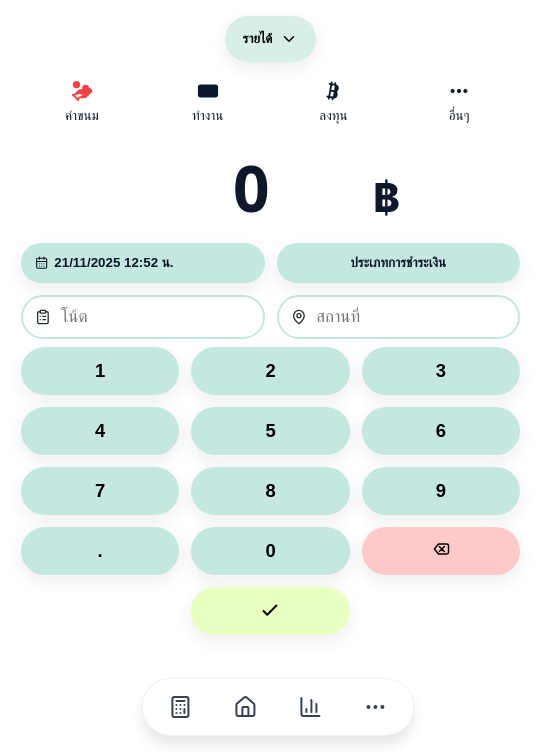
Income Component › should build number sequence using keypad
Click the button "1" at (100, 371), box [21,347,179,395]
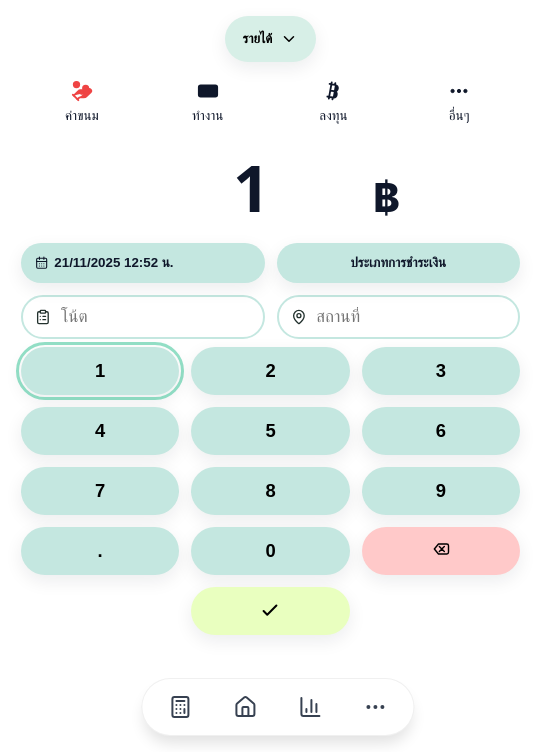
Click the button "2" at (270, 371), box [191,347,350,395]
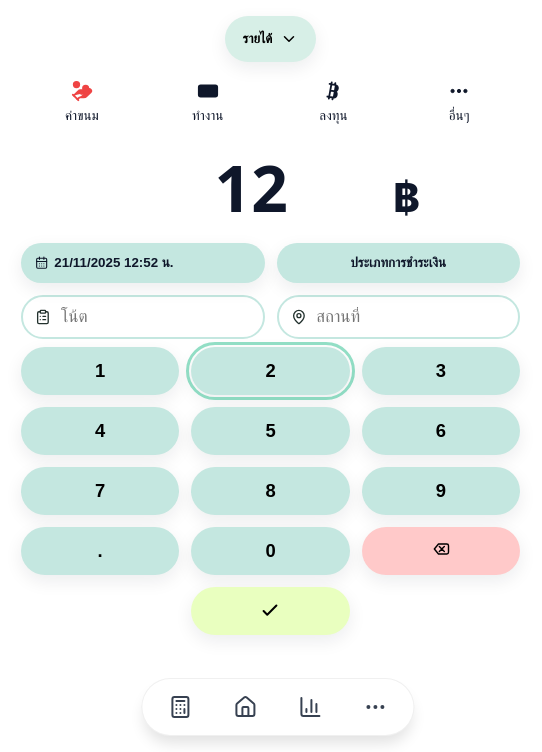
Click the button "3" at (441, 371), box [362,347,520,395]
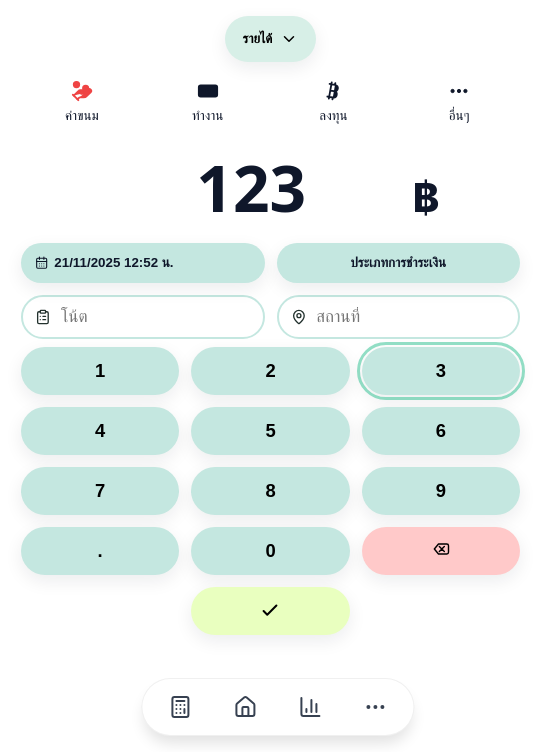
expect the field named "จำนวนเงิน" holds "123": met, box [102,144,401,231]
